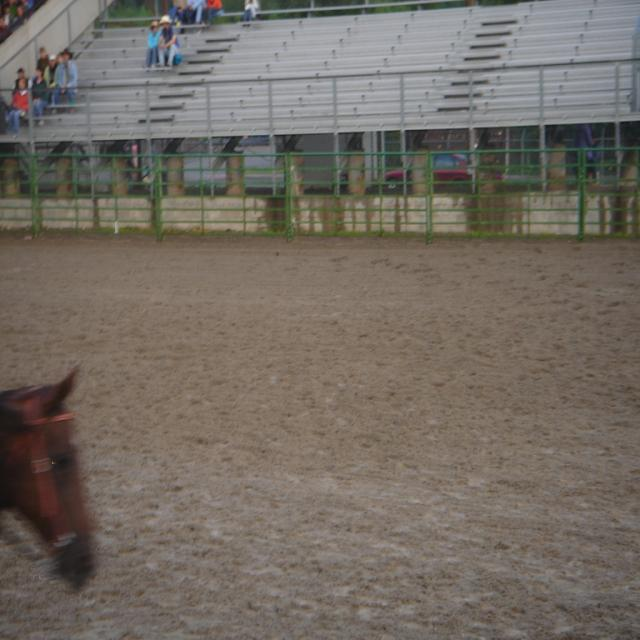Horse: (0, 364, 93, 593)
